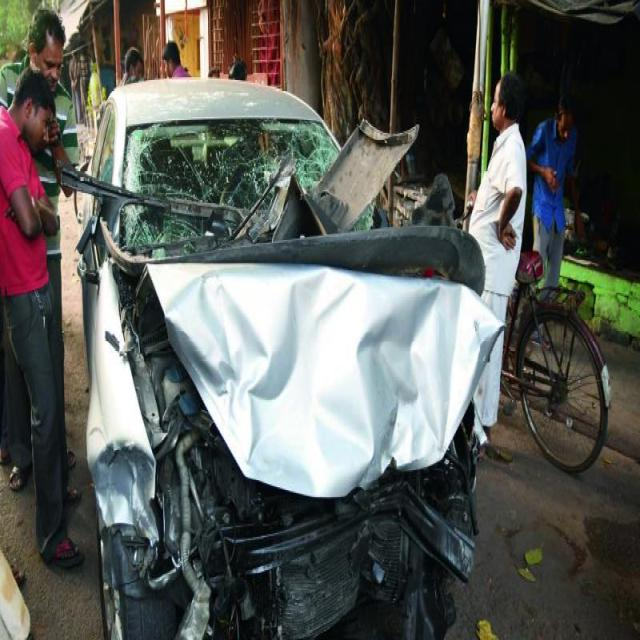accident: (61, 80, 501, 638)
bicycle: (469, 74, 610, 472)
